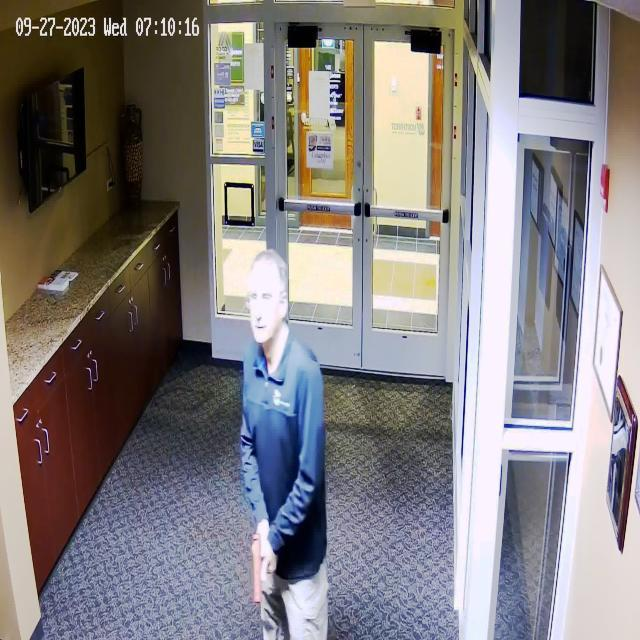Gun: (243, 525, 277, 621)
